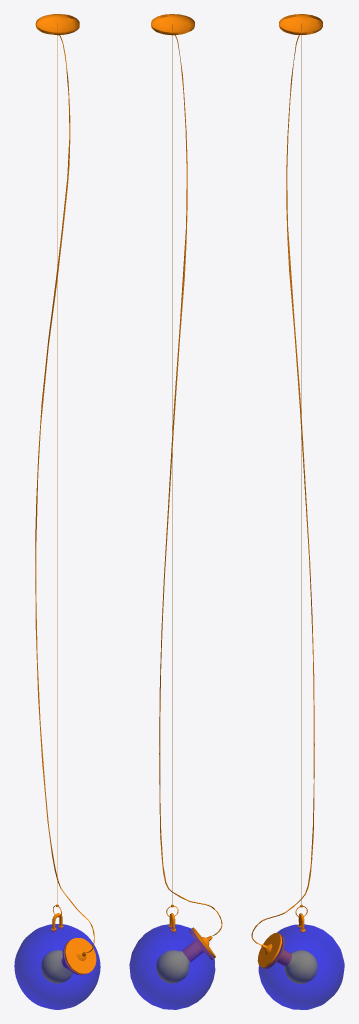
The model's file is luminaria-teto-mykonos.FBX.
The picture shows the model from 3 angles, left to right: view 1: azimuth 90°, elevation 25°; view 2: azimuth 150°, elevation 25°; view 3: azimuth 330°, elevation 25°; orthographic projection.
Visible parts, largest first — view 1: luminaria_teto_mykonos; view 2: luminaria_teto_mykonos; view 3: luminaria_teto_mykonos.
Boxes of the visible parts, left/top/right/bottom form: luminaria_teto_mykonos: left=14, top=14, right=100, bottom=1009; luminaria_teto_mykonos: left=129, top=14, right=222, bottom=1009; luminaria_teto_mykonos: left=251, top=14, right=344, bottom=1009.
Size of the model in its own units: 34.44 by 434 by 34.44.
